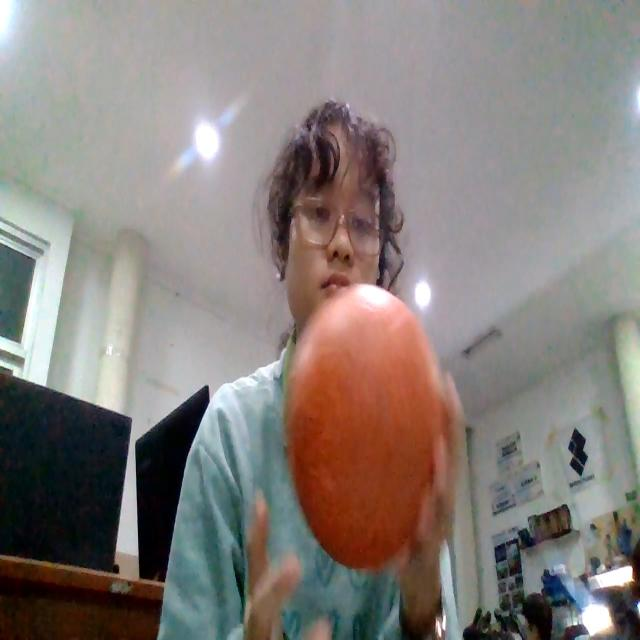ball: (282, 282, 448, 573)
